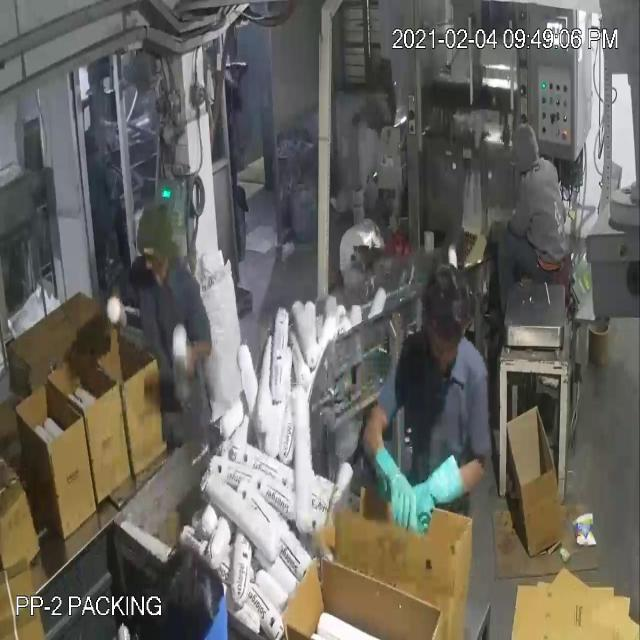gloves: (413, 440, 473, 540), (360, 446, 419, 534)
no-gloves: (171, 326, 221, 382)
